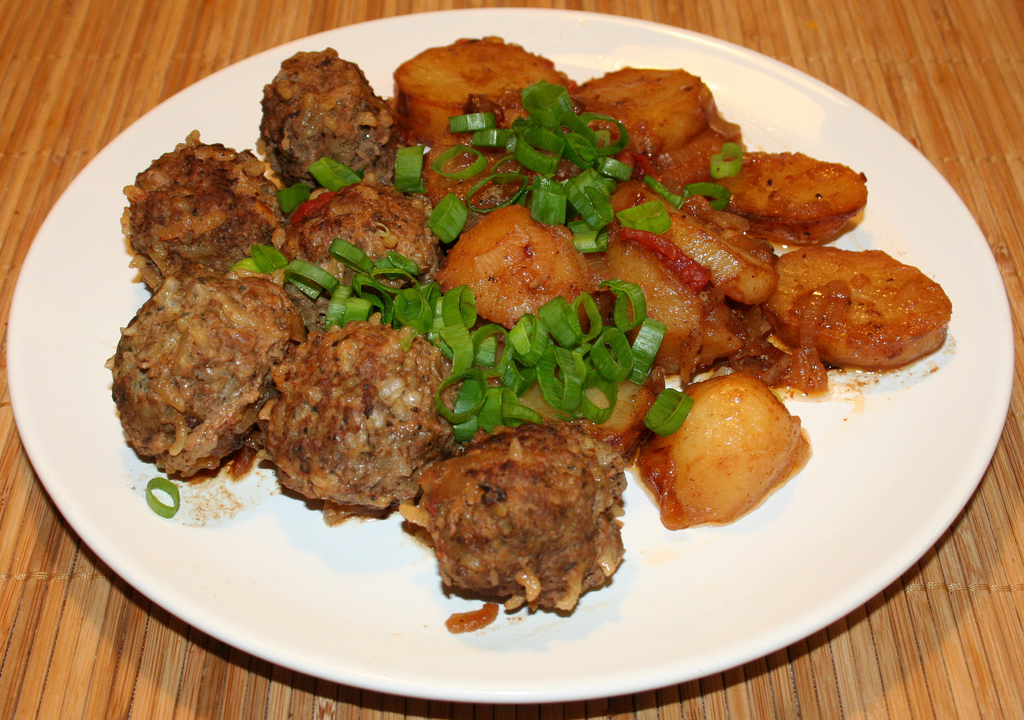meatballs: (429, 439, 624, 619), (278, 316, 440, 506), (119, 280, 278, 462), (129, 152, 268, 267), (273, 47, 391, 178), (286, 185, 434, 280)
